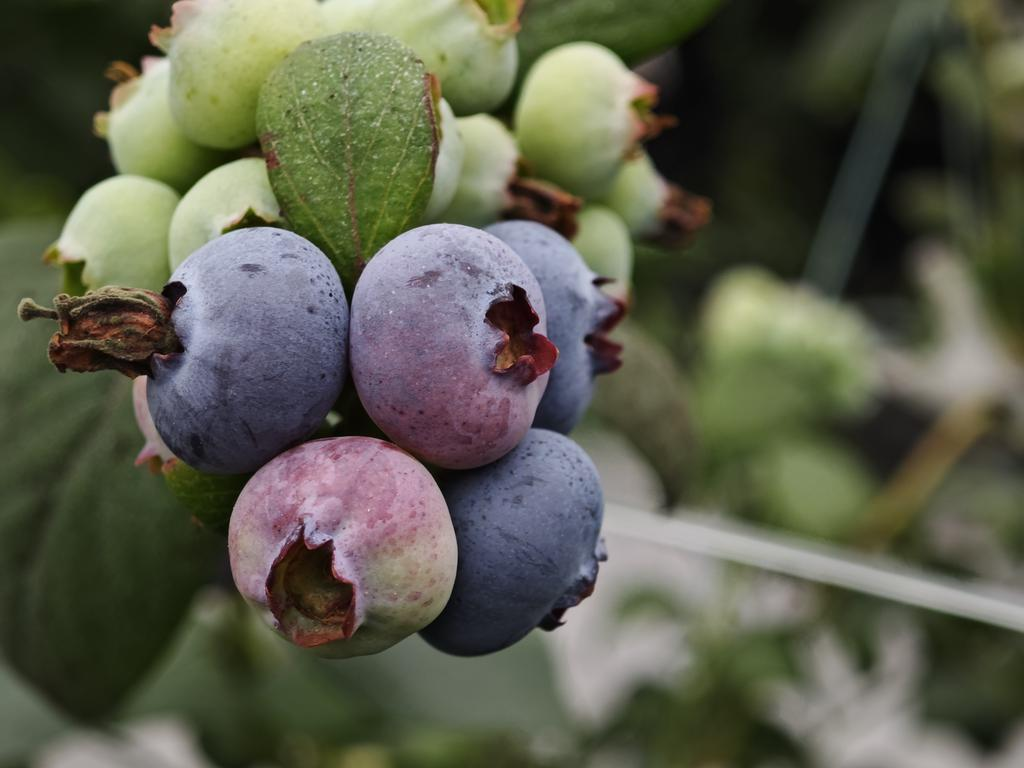RipeBlueBerry: (150, 227, 350, 474)
Semi-RipeBlueBerry: (226, 439, 458, 661), (351, 226, 552, 468)
UnripeBlueBerry: (523, 40, 652, 189)
